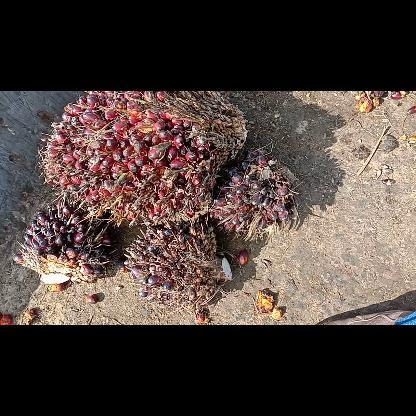TBS abnormal: (128, 226, 232, 306), (216, 154, 298, 235), (18, 214, 110, 284)
TBS masak: (42, 91, 246, 225)
